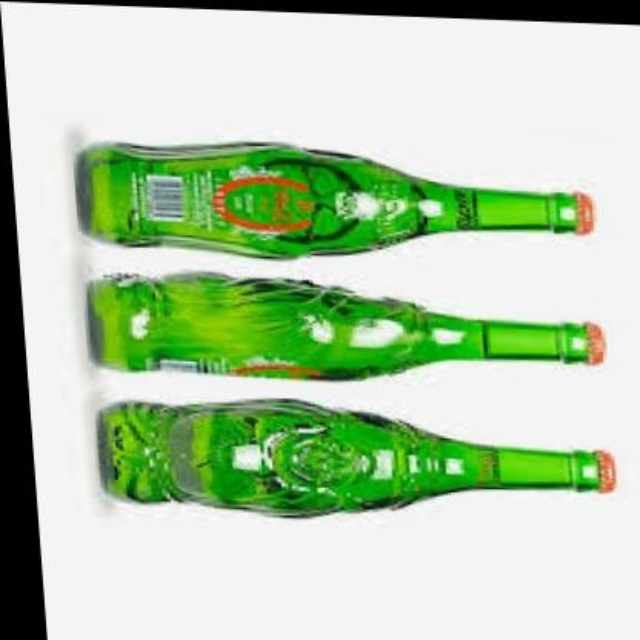trash: (98, 400, 614, 515), (77, 143, 592, 257), (88, 272, 603, 378)
